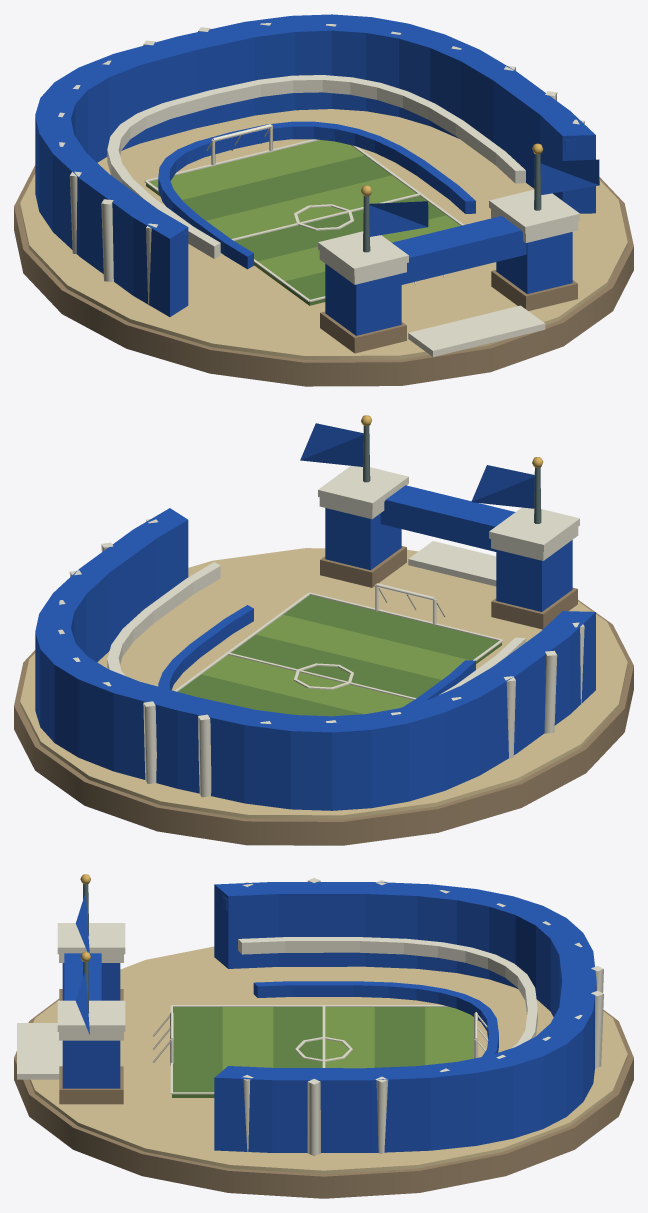
Rendered from main-stadium-lv1.glb.
3 renders of one model, top to bottom at view 1: azimuth 30°, elevation 25°; view 2: azimuth 150°, elevation 25°; view 3: azimuth 270°, elevation 25°, orthographic. The views are drawn at different scales.
Parts seen in each view (by area): view 1: stadium_shell_royal, foundation_sand, foundation_stoneDark, pitch_grassLight, seating_white, pitch_grass, seating_royal, entrance_pylons_royal, entrance_bridge_royal, entrance_pylons_roof_white, entrance_steps_white, flags_royal (+6 smaller); view 2: stadium_shell_royal, foundation_sand, foundation_stoneDark, pitch_grass, pitch_grassLight, entrance_pylons_royal, entrance_bridge_royal, entrance_pylons_roof_white, facade_ribs_white, flags_royal, seating_white, entrance_pylons_stoneDark (+5 smaller); view 3: stadium_shell_royal, foundation_sand, foundation_stoneDark, pitch_grass, pitch_grassLight, seating_white, seating_royal, entrance_pylons_roof_white, entrance_pylons_royal, facade_ribs_white, entrance_steps_white, entrance_bridge_royal (+5 smaller).
Part boxes in pixels (left/top/right/bottom): stadium_shell_royal: left=35, top=14, right=595, bottom=316; foundation_sand: left=20, top=109, right=627, bottom=359; foundation_stoneDark: left=14, top=165, right=633, bottom=386; pitch_grassLight: left=146, top=140, right=460, bottom=285; seating_white: left=107, top=75, right=525, bottom=258; pitch_grass: left=182, top=155, right=445, bottom=305; seating_royal: left=158, top=121, right=575, bottom=269; entrance_pylons_royal: left=325, top=232, right=572, bottom=335; entrance_bridge_royal: left=392, top=216, right=526, bottom=284; entrance_pylons_roof_white: left=318, top=189, right=579, bottom=275; entrance_steps_white: left=408, top=305, right=545, bottom=356; flags_royal: left=369, top=159, right=599, bottom=236; stadium_shell_royal: left=35, top=508, right=595, bottom=810; foundation_sand: left=20, top=548, right=627, bottom=819; foundation_stoneDark: left=14, top=600, right=633, bottom=845; pitch_grass: left=178, top=595, right=501, bottom=716; pitch_grassLight: left=201, top=614, right=469, bottom=714; entrance_pylons_royal: left=325, top=508, right=572, bottom=611; entrance_bridge_royal: left=380, top=485, right=515, bottom=551; entrance_pylons_roof_white: left=318, top=466, right=579, bottom=551; facade_ribs_white: left=58, top=519, right=584, bottom=797; flags_royal: left=300, top=423, right=534, bottom=508; seating_white: left=107, top=562, right=525, bottom=694; entrance_pylons_stoneDark: left=320, top=546, right=577, bottom=629; stadium_shell_royal: left=214, top=882, right=596, bottom=1152; foundation_sand: left=29, top=946, right=627, bottom=1174; foundation_stoneDark: left=14, top=999, right=633, bottom=1198; pitch_grass: left=172, top=1007, right=425, bottom=1097; pitch_grassLight: left=222, top=1007, right=473, bottom=1070; seating_white: left=238, top=937, right=537, bottom=1048; seating_royal: left=222, top=895, right=498, bottom=1056; entrance_pylons_roof_white: left=57, top=923, right=125, bottom=1031; entrance_pylons_royal: left=62, top=963, right=120, bottom=1088; facade_ribs_white: left=242, top=878, right=603, bottom=1156; entrance_steps_white: left=17, top=1023, right=62, bottom=1079; entrance_bridge_royal: left=64, top=953, right=101, bottom=1000.
Size of the model in its own units: 0.9074 by 0.2968 by 1.
